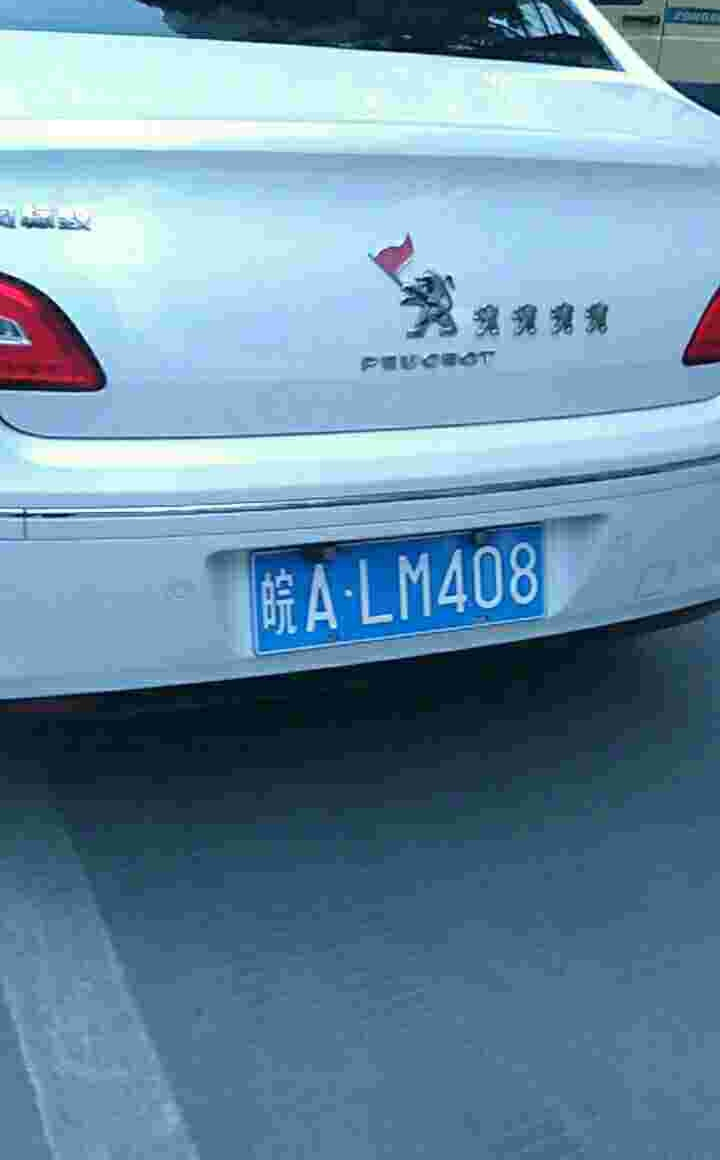license_plate: (238, 533, 560, 653)
